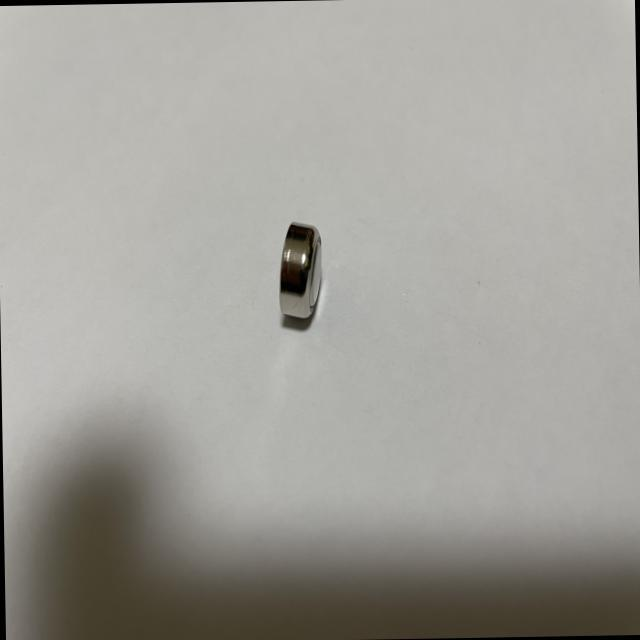COIN: (277, 219, 325, 326)
